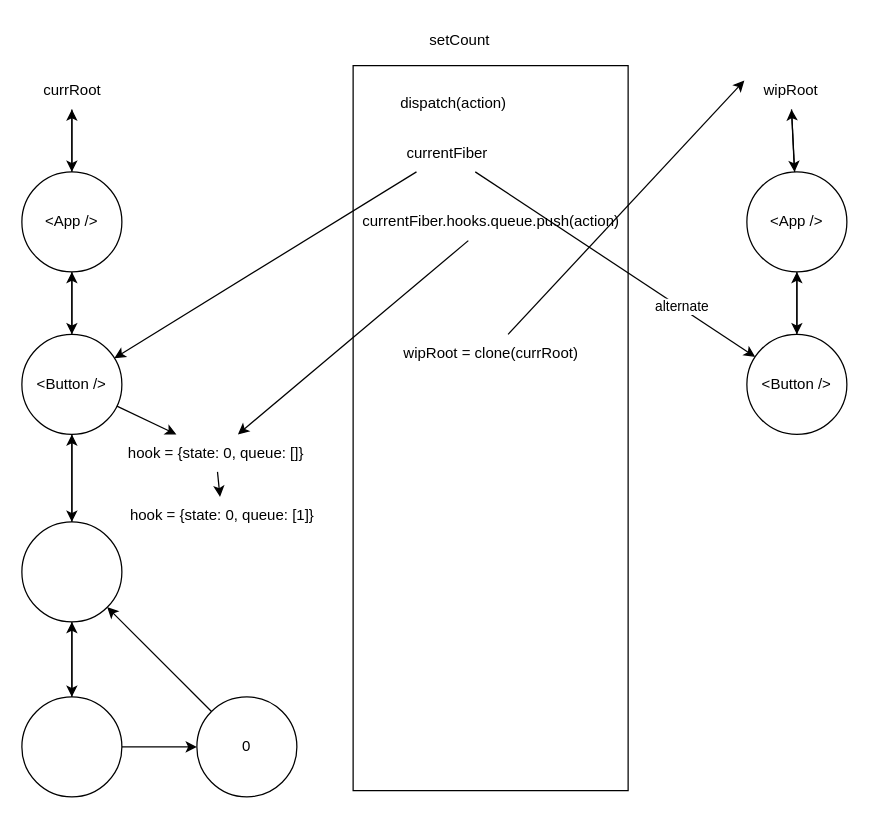
This 869x819 diagram has some shape labels left out. The box of each missing label's shape, as (x1, y1, x2, y2) in pixels:
button: (21, 521, 122, 622)
Count: (21, 696, 122, 797)
